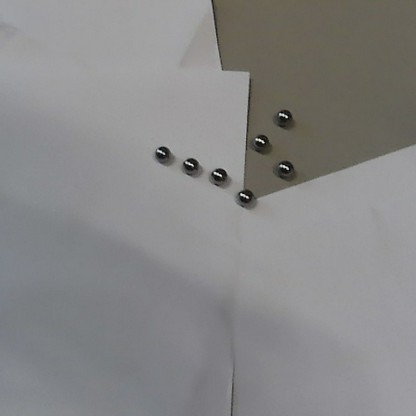ironball: (234, 186, 258, 209), (272, 105, 294, 130), (207, 165, 229, 187), (182, 154, 202, 178), (274, 158, 296, 179), (251, 130, 269, 154), (153, 141, 171, 164)
